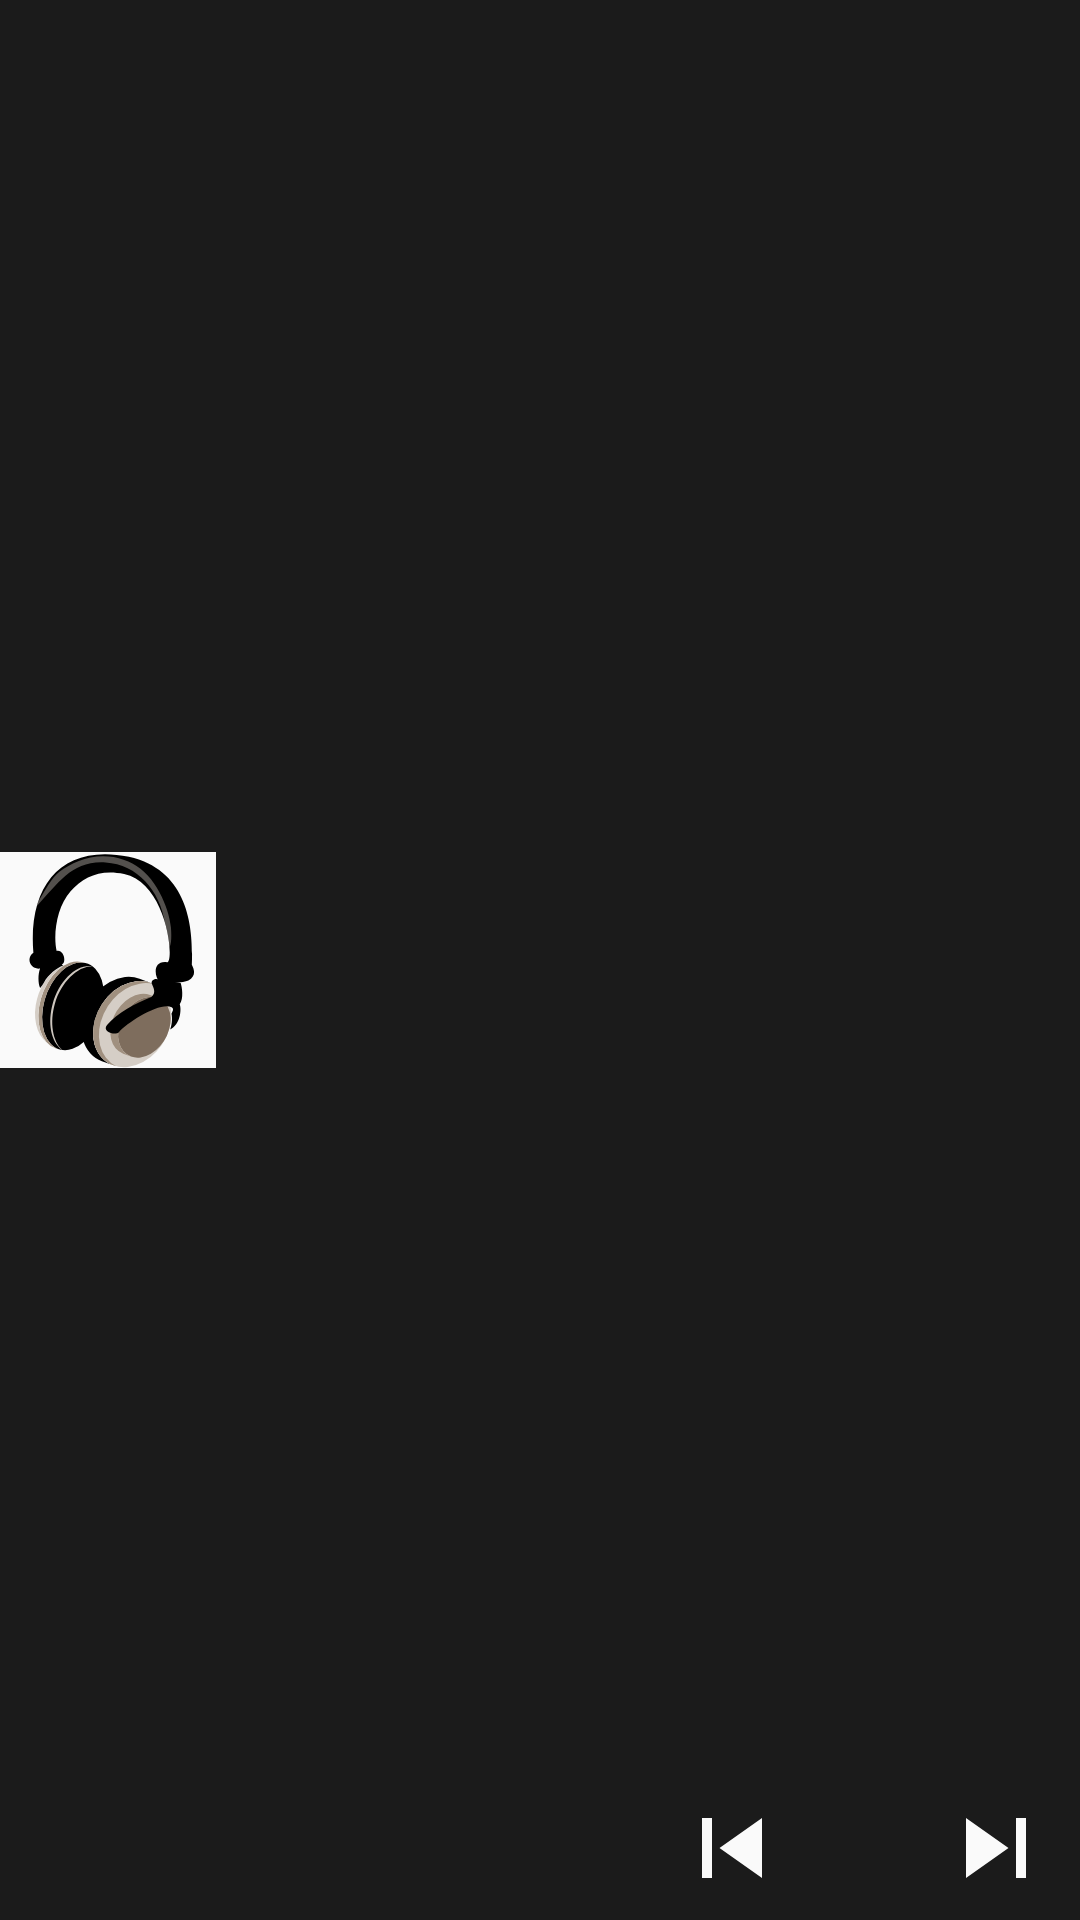

Point at icon controls on the screen. Image size 1080×1920, points as point (x, y).
skip next station: point (996, 1848)
skip previous station: point (732, 1848)
Station icon: point (108, 960)
